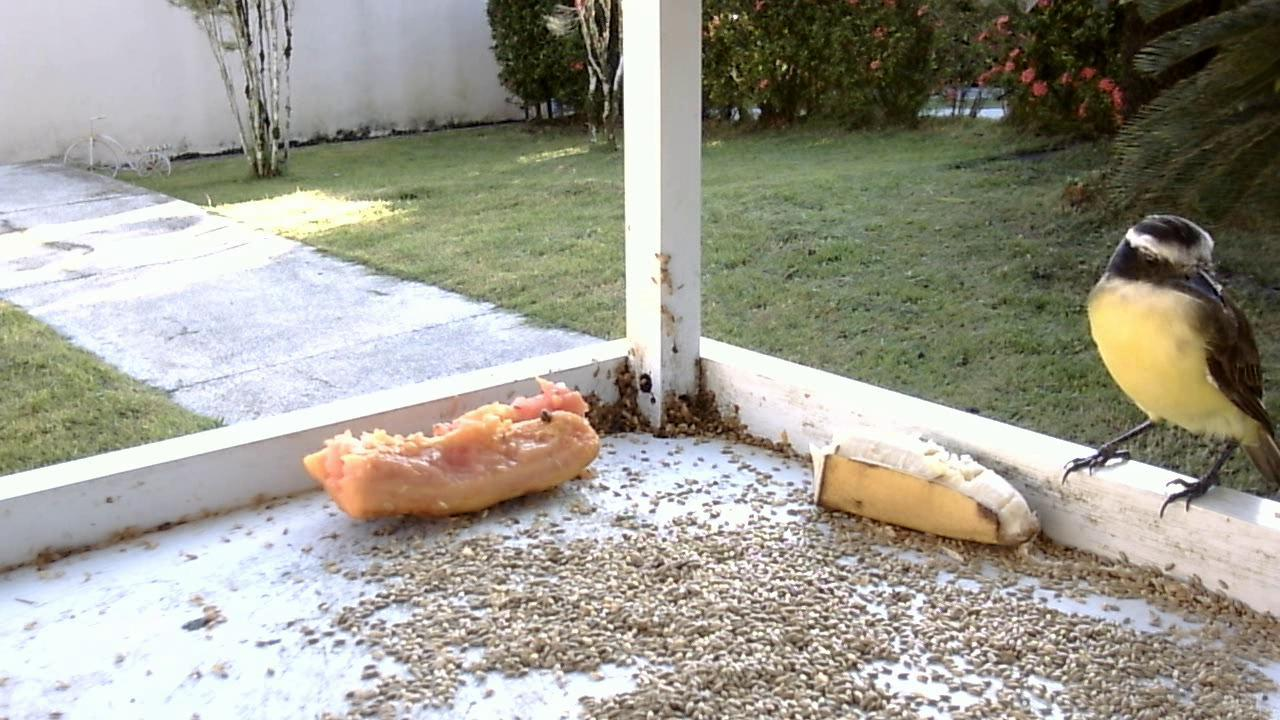bem_te_vi: (1054, 203, 1276, 535)
